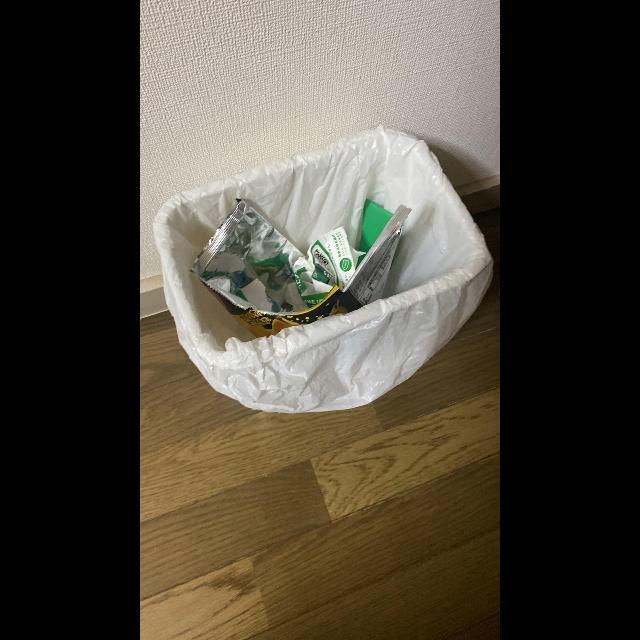cardboard: (356, 199, 394, 269), (235, 278, 281, 313)
food_wrapper: (192, 200, 412, 335)
paper: (292, 226, 366, 307)
